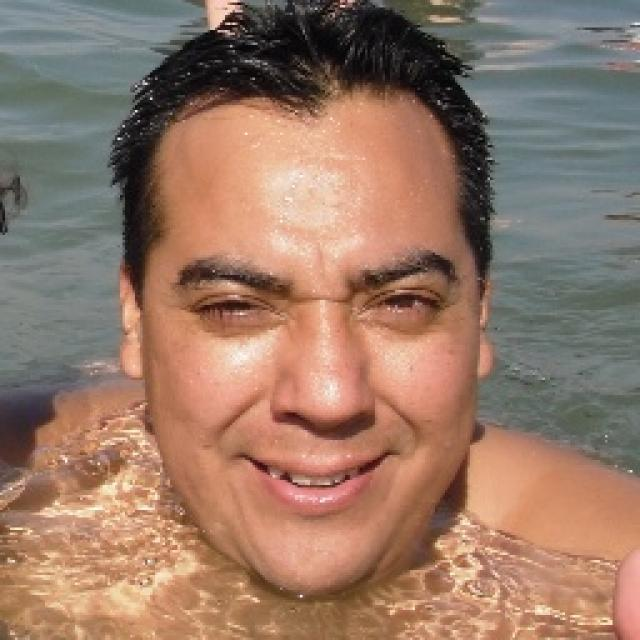earlobe: (119, 338, 145, 380), (474, 334, 496, 381)
eye: (364, 290, 436, 318), (198, 294, 266, 317)
nose: (268, 405, 384, 471)
wholeear: (119, 263, 146, 380)
